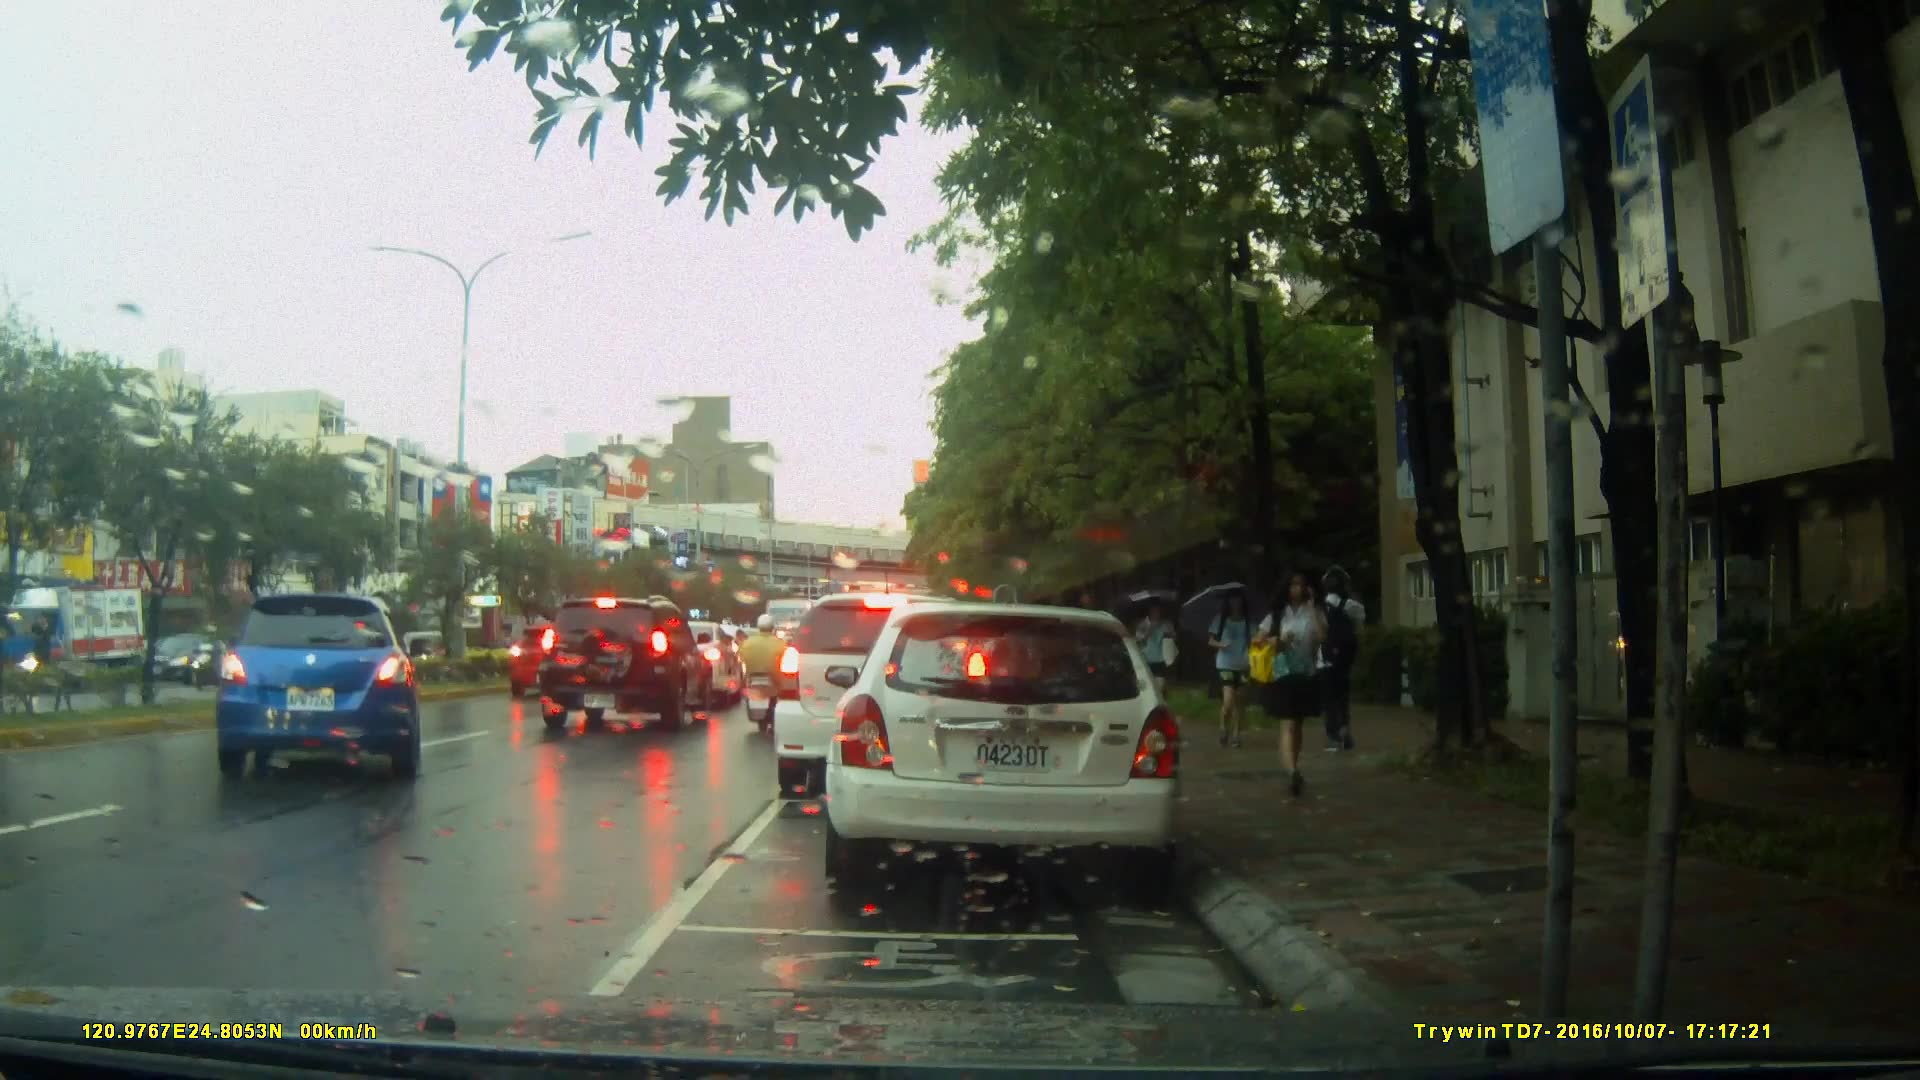pedestrian: (1252, 550, 1333, 806), (1304, 559, 1377, 759), (1215, 588, 1263, 753), (1132, 600, 1176, 707)
rider: (734, 614, 792, 732)
vehicle: (815, 593, 1204, 909), (772, 590, 995, 802), (211, 594, 426, 788), (530, 595, 719, 739), (1, 584, 150, 686), (506, 622, 611, 697)
